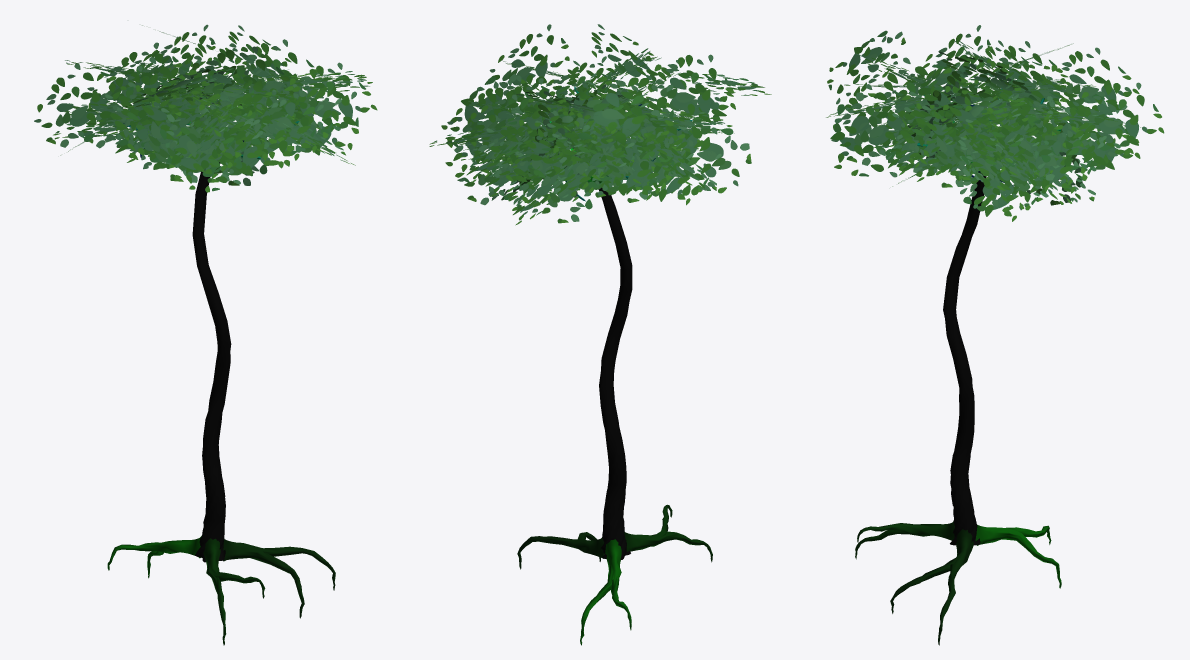
The model's file is Tree5.fbx.
3 views of the same model, side by side, from view 1: azimuth 30°, elevation 25°; view 2: azimuth 150°, elevation 25°; view 3: azimuth 270°, elevation 25° (orthographic).
Parts seen in each view (by area): view 1: Tree5; view 2: Tree5; view 3: Tree5.
Part boxes in pixels (box(x1,y1,x2,y2)): Tree5: box(34, 24, 377, 645); Tree5: box(429, 24, 771, 645); Tree5: box(826, 25, 1164, 645).
Size of the model in its own units: 688 by 1105 by 683.
